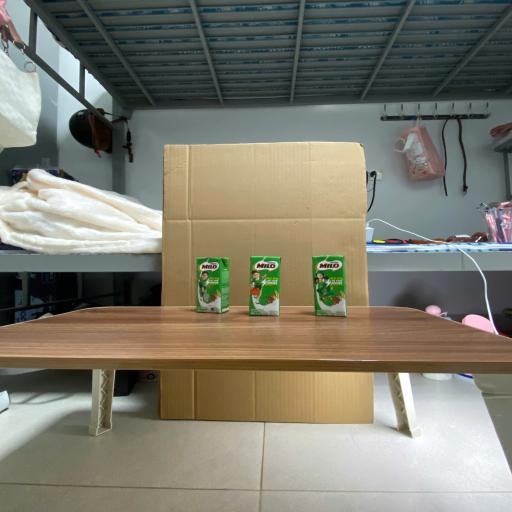milo: (313, 256, 346, 316), (196, 257, 229, 314), (249, 256, 280, 316)
